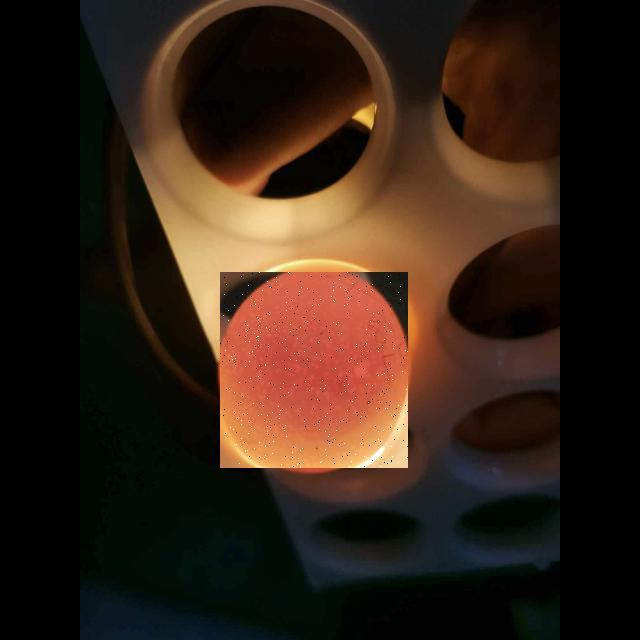Infertile: (220, 272, 408, 468)
